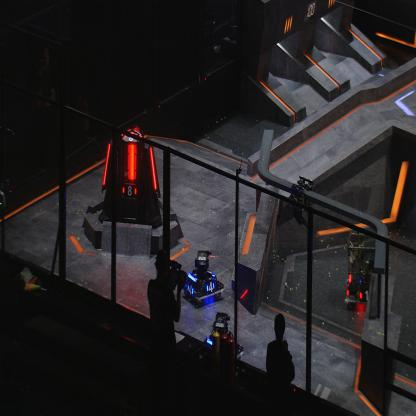car: (346, 224, 386, 310), (184, 245, 226, 307), (201, 312, 244, 363)
